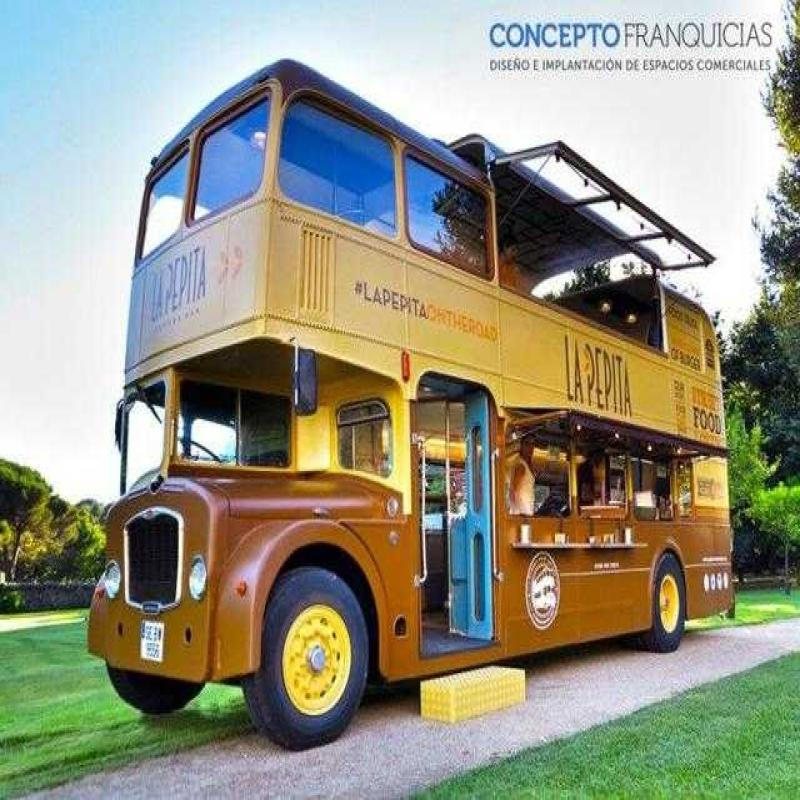bus: (108, 44, 800, 724)
